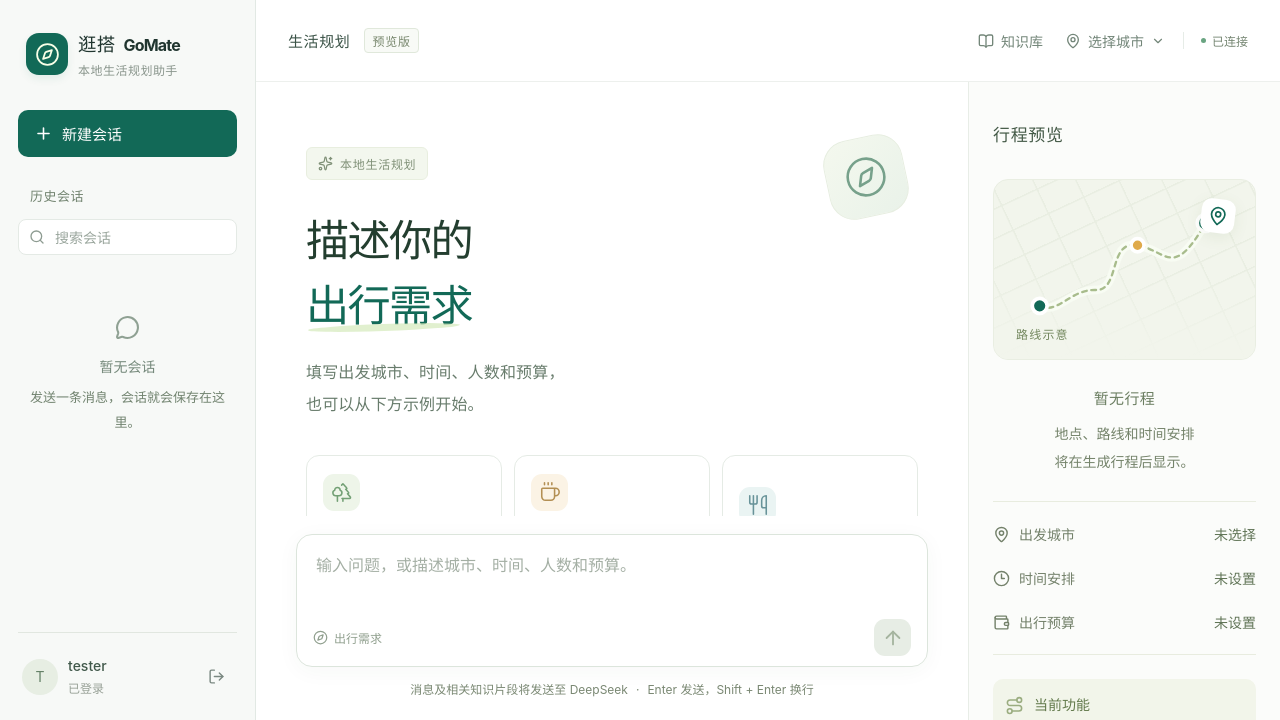
Test: GoMate workspace › reports a failed logout and preserves the authenticated view until the server can revoke it
Click the button named "退出登录" at (216, 676), box [199,660,233,694]
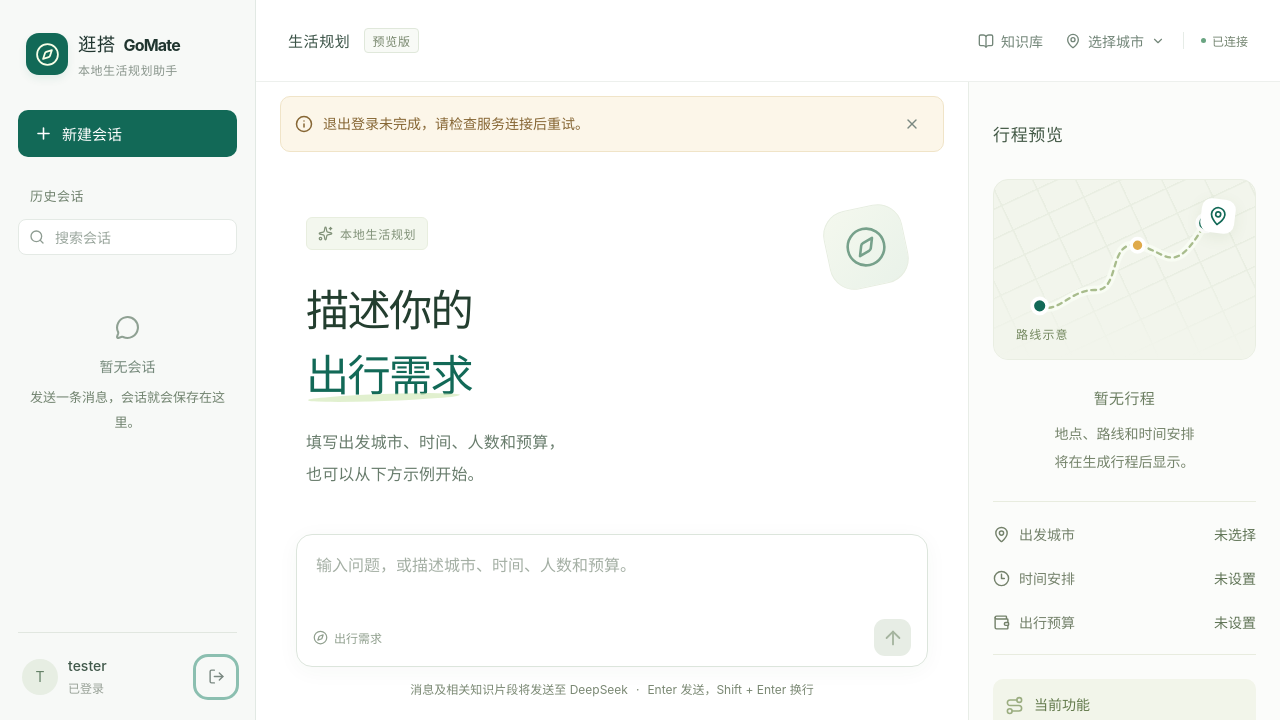
Expected: the text "tester" is shown, [68,657,107,674]
Expected: the message shows "退出登录未完成", [323,115,589,132]
